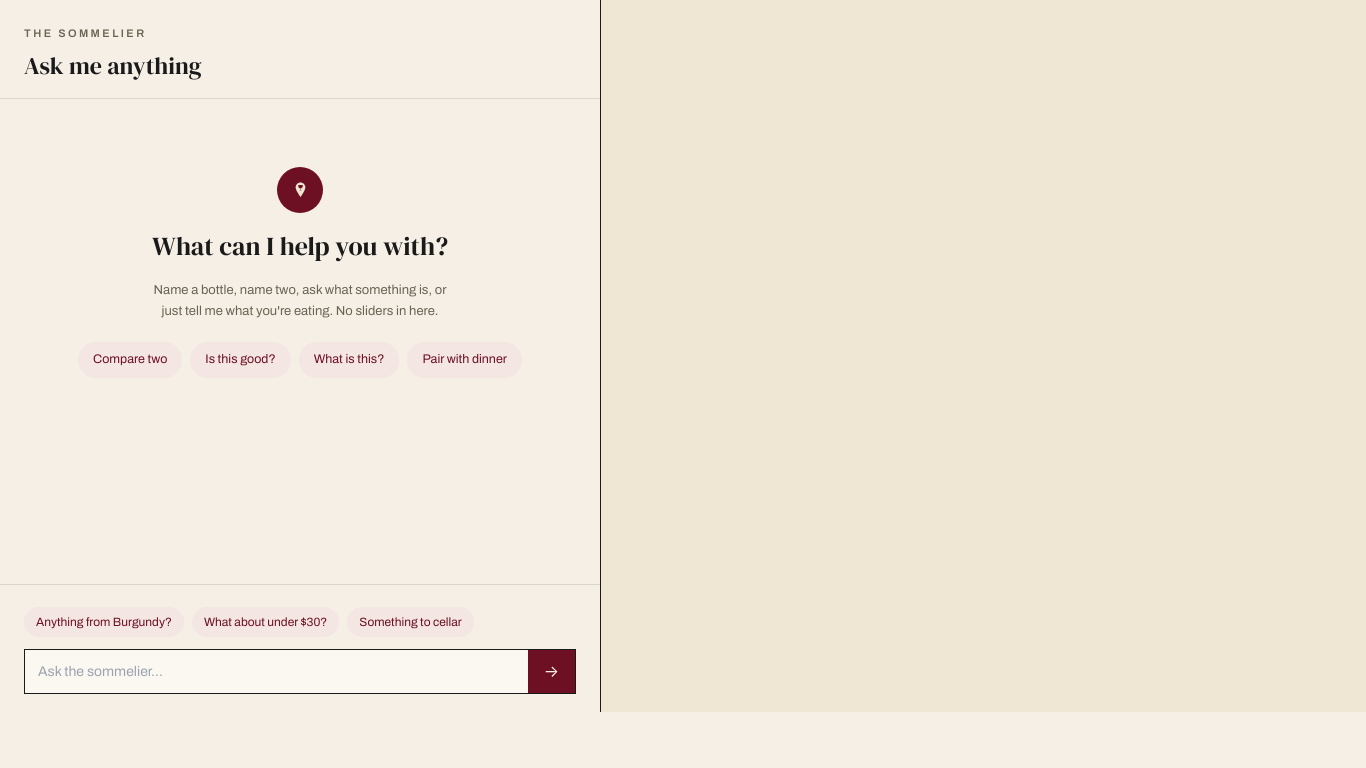
Test: lazy zip › holds the question and asks for zip when none is stored
Type "a good red for tonight" into the field at (276, 672), box [25,650,528,693]
Then press Enter
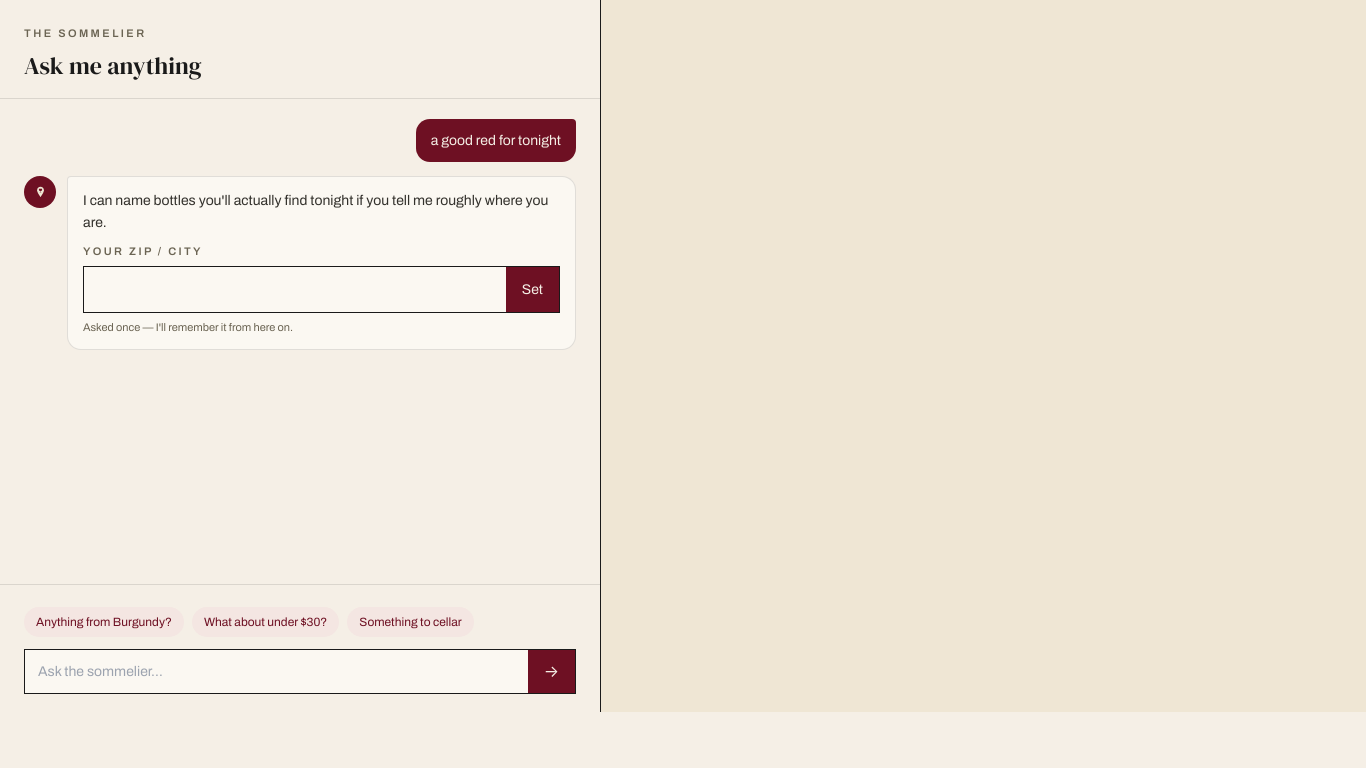
Now the text "tell me roughly where you are" is shown, box [83,193,548,230]
Now the text "Asked once — I'll remember it from here on." is shown, box [83,321,293,333]
